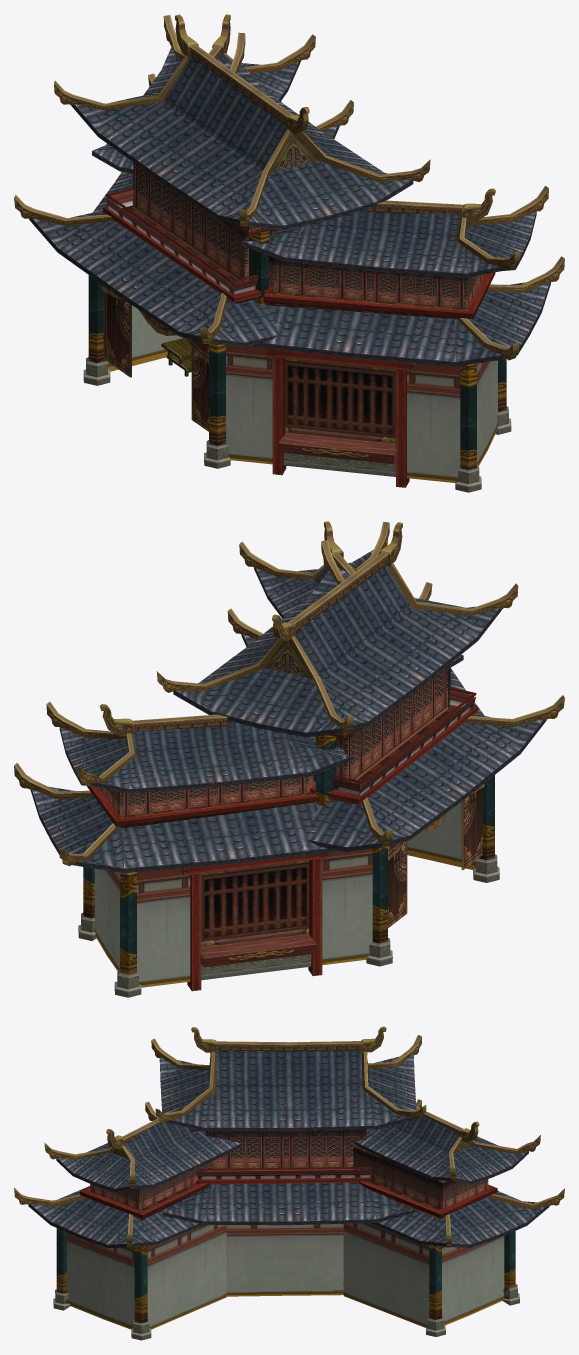
The model's file is Yland1_fz_09 Yland1.FBX.
3 renders of one model, top to bottom at view 1: azimuth 30°, elevation 25°; view 2: azimuth 150°, elevation 25°; view 3: azimuth 270°, elevation 25°, orthographic. The views are drawn at different scales.
Visible parts, largest first — view 1: Yland1_fz_09 Yland1; view 2: Yland1_fz_09 Yland1; view 3: Yland1_fz_09 Yland1.
Boxes of the visible parts, left/top/right/bottom form: Yland1_fz_09 Yland1: left=14, top=14, right=564, bottom=492; Yland1_fz_09 Yland1: left=14, top=521, right=564, bottom=997; Yland1_fz_09 Yland1: left=14, top=1026, right=564, bottom=1340.
Size of the model in its own units: 15.71 by 14.08 by 27.79.
